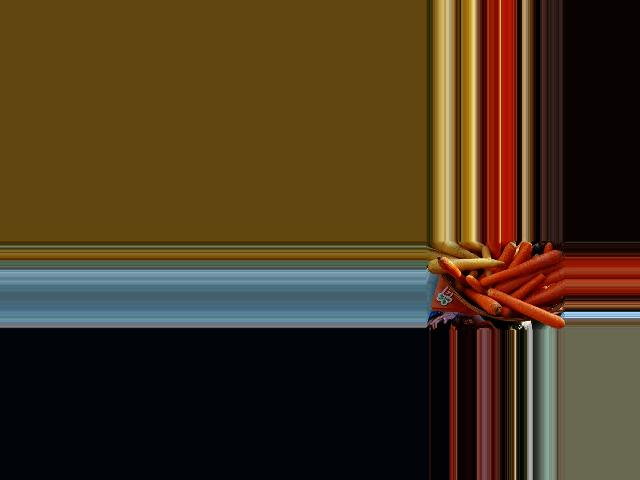carrot: (456, 288, 499, 317)
